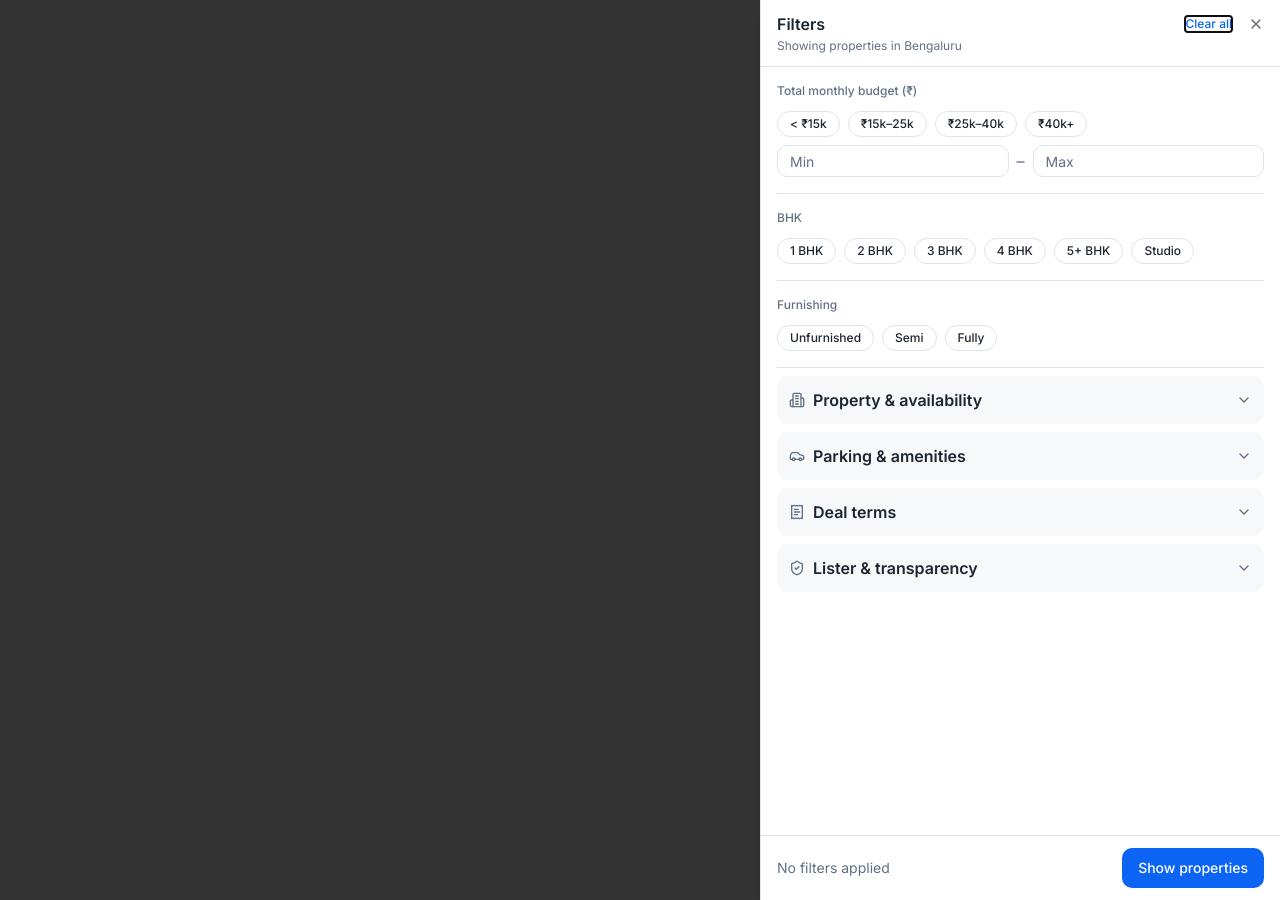
it: Rent/Buy visibility › shows 'Availability Confirmed' section in rent (Property & availability group)
The width and height of the screenshot is (1280, 900).
Click the button "Property & availability".
click(898, 400)  # box [777,376,1264,424]
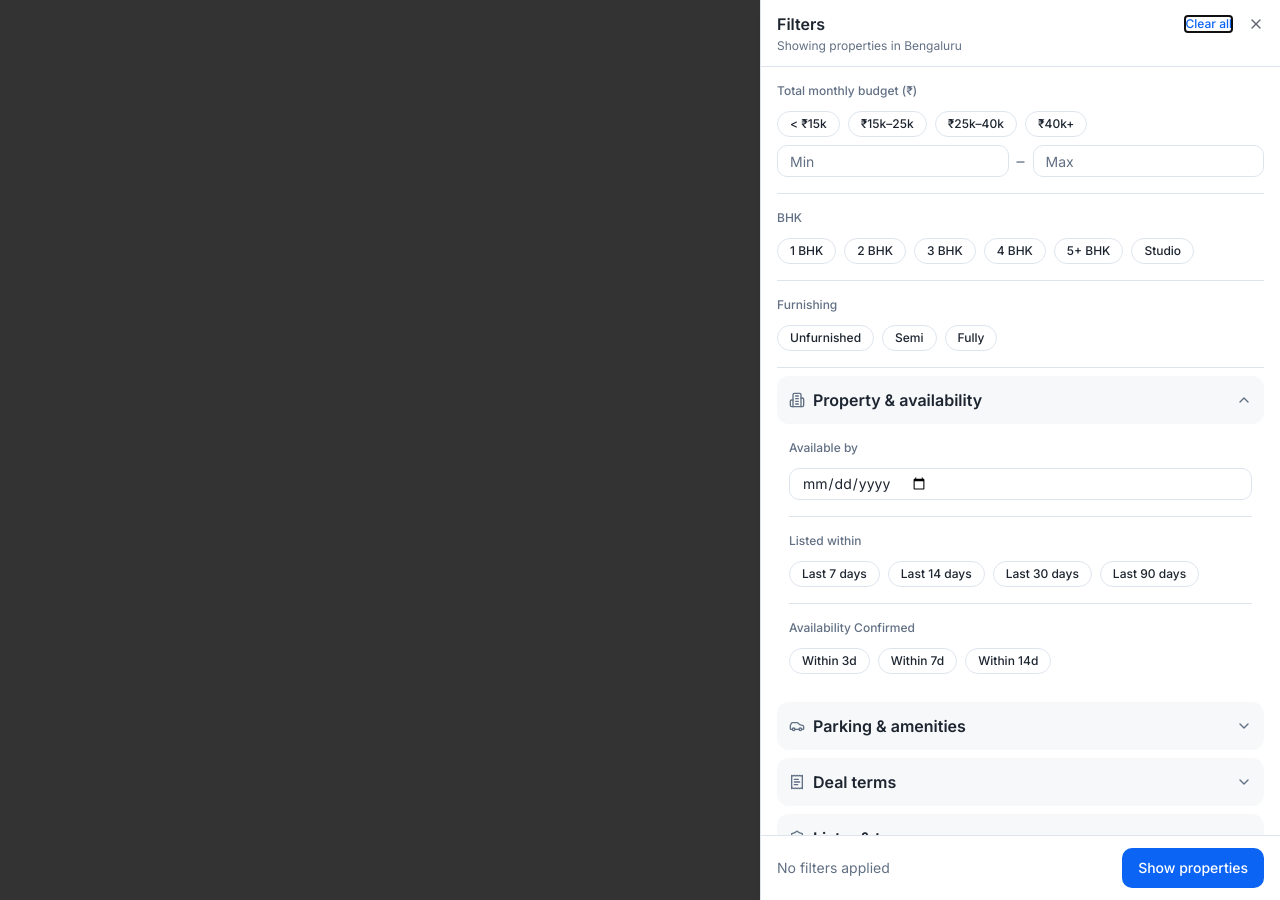
Expected: the heading "Availability Confirmed" is shown, [789,620,915,636]
Expected: the button "Within 7d" is shown, [878,648,957,674]
